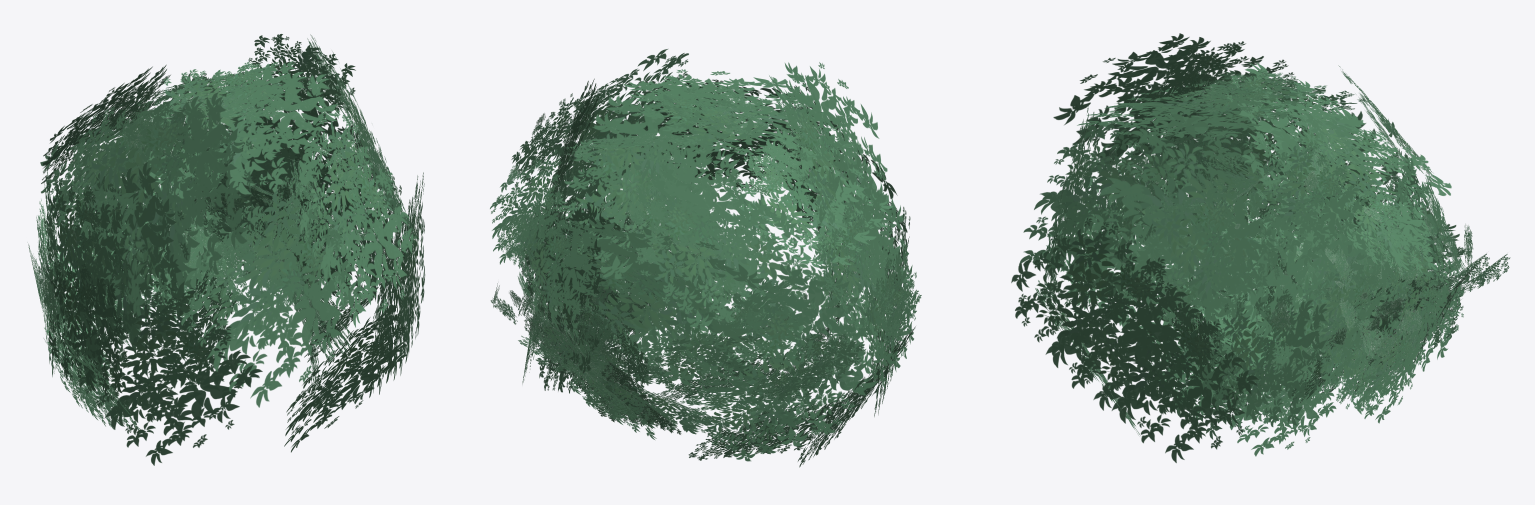
File: Bush.glb
The picture shows the model from 3 angles, left to right: view 1: azimuth 30°, elevation 25°; view 2: azimuth 150°, elevation 25°; view 3: azimuth 270°, elevation 25°; orthographic projection. The views are drawn at different scales.
Parts seen in each view (by area): view 1: Bush.002; view 2: Bush.002; view 3: Bush.002.
Part boxes in pixels (<box>): Bush.002: <box>28,34,425,465</box>; Bush.002: <box>490,49,921,467</box>; Bush.002: <box>1011,33,1510,462</box>.
Bounding box in the file's own units: 3.57 × 3.69 × 4.32.
1 material, 1 textured.
